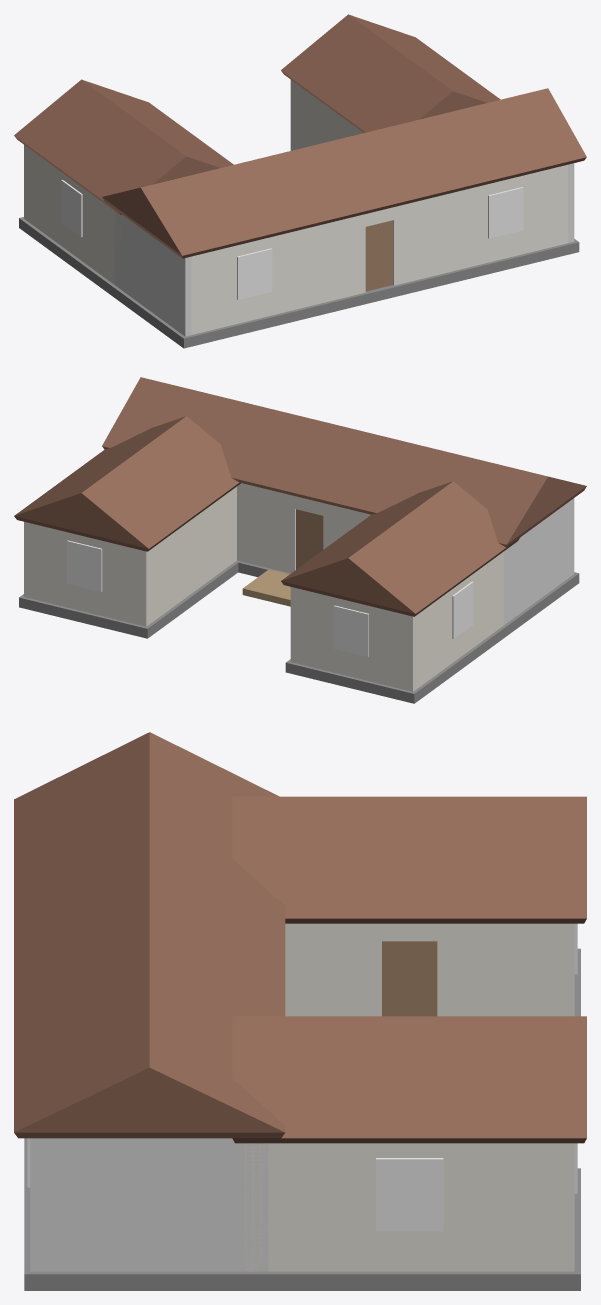
Rendered from u-shaped-model-one-floor.glb.
The picture shows the model from 3 angles, top to bottom: view 1: azimuth 30°, elevation 25°; view 2: azimuth 150°, elevation 25°; view 3: azimuth 270°, elevation 25°; orthographic projection. The views are drawn at different scales.
Parts seen in each view (by area): view 1: Roof_Center, Back_Wall_Center_F1, Roof_Left, Roof_Right, Foundation_U_Shaped, Left_End_Center_F1, Left_Outer_Wall_F1, Right_Inner_Wall_F1, Door_Back, Window_Center_F1_Back_R_Frame, Window_Center_F1_Back_L_Frame, Window_Left_F1_Outer_Frame (+1 smaller); view 2: Roof_Center, Roof_Left, Roof_Right, Left_End_Wall_F1, Right_End_Wall_F1, Right_Inner_Wall_F1, Foundation_U_Shaped, Left_Outer_Wall_F1, Front_Wall_Center_F1, Left_End_Center_F1, Window_Left_F1_End_Frame, Window_Right_F1_End_Frame (+4 smaller); view 3: Roof_Center, Roof_Right, Roof_Left, Right_Outer_Wall_F1, Right_End_Center_F1, Left_Inner_Wall_F1, Foundation_U_Shaped, Window_Right_F1_Outer_Frame, Door_Courtyard, Left_End_Wall_F1, Right_End_Wall_F1.
Part boxes in pixels (left/top/right/bottom): Roof_Center: left=102, top=88, right=586, bottom=258; Back_Wall_Center_F1: left=191, top=164, right=567, bottom=334; Roof_Left: left=14, top=79, right=233, bottom=214; Roof_Right: left=281, top=14, right=500, bottom=132; Foundation_U_Shaped: left=19, top=217, right=579, bottom=348; Left_End_Center_F1: left=114, top=212, right=191, bottom=336; Left_Outer_Wall_F1: left=24, top=145, right=121, bottom=284; Right_Inner_Wall_F1: left=294, top=82, right=363, bottom=149; Door_Back: left=365, top=220, right=392, bottom=291; Window_Center_F1_Back_R_Frame: left=488, top=187, right=523, bottom=238; Window_Center_F1_Back_L_Frame: left=237, top=248, right=272, bottom=299; Window_Left_F1_Outer_Frame: left=61, top=180, right=82, bottom=237; Roof_Center: left=102, top=377, right=586, bottom=547; Roof_Left: left=281, top=481, right=520, bottom=616; Roof_Right: left=14, top=416, right=240, bottom=551; Left_End_Wall_F1: left=290, top=587, right=416, bottom=691; Right_End_Wall_F1: left=24, top=522, right=149, bottom=626; Right_Inner_Wall_F1: left=140, top=486, right=236, bottom=626; Foundation_U_Shaped: left=19, top=560, right=579, bottom=703; Left_Outer_Wall_F1: left=406, top=552, right=503, bottom=691; Front_Wall_Center_F1: left=237, top=483, right=370, bottom=573; Left_End_Center_F1: left=503, top=498, right=574, bottom=625; Window_Left_F1_End_Frame: left=333, top=605, right=368, bottom=656; Window_Right_F1_End_Frame: left=67, top=540, right=102, bottom=591; Roof_Center: left=14, top=732, right=285, bottom=1138; Roof_Right: left=232, top=1016, right=586, bottom=1143; Roof_Left: left=232, top=796, right=586, bottom=923; Right_Outer_Wall_F1: left=244, top=1143, right=574, bottom=1271; Right_End_Center_F1: left=30, top=1138, right=268, bottom=1271; Left_Inner_Wall_F1: left=285, top=923, right=574, bottom=1016; Foundation_U_Shaped: left=24, top=948, right=580, bottom=1290; Window_Right_F1_Outer_Frame: left=376, top=1158, right=443, bottom=1231; Door_Courtyard: left=382, top=941, right=437, bottom=1016; Left_End_Wall_F1: left=562, top=923, right=574, bottom=1016; Right_End_Wall_F1: left=562, top=1143, right=574, bottom=1271.
Bounding box in the file's own units: 12.98 × 4.12 × 9.37.
